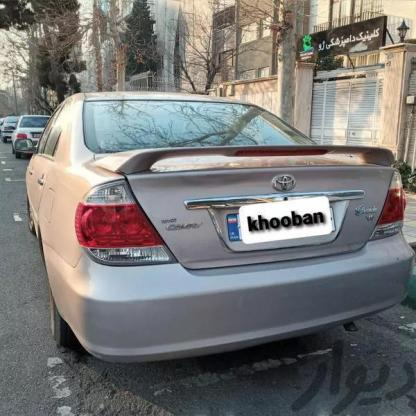Car: (18, 64, 416, 369), (4, 114, 69, 168)
